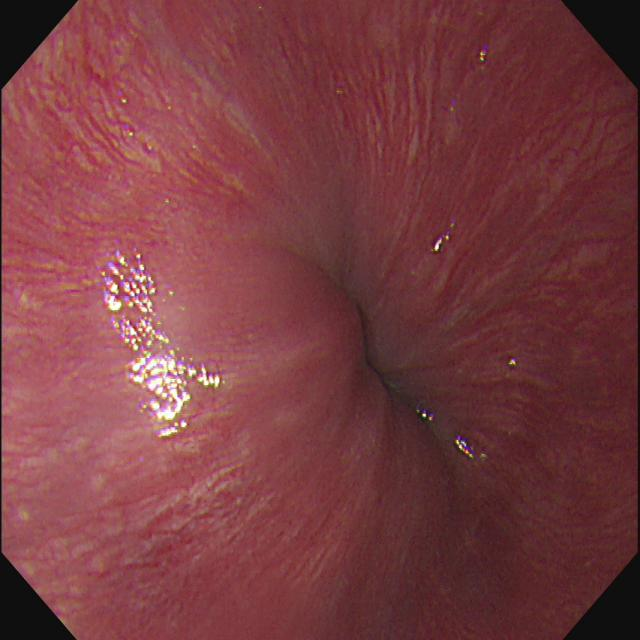I: (260, 185, 485, 495)
U: (97, 247, 223, 442), (432, 222, 457, 256), (453, 433, 477, 462), (417, 406, 437, 426)
